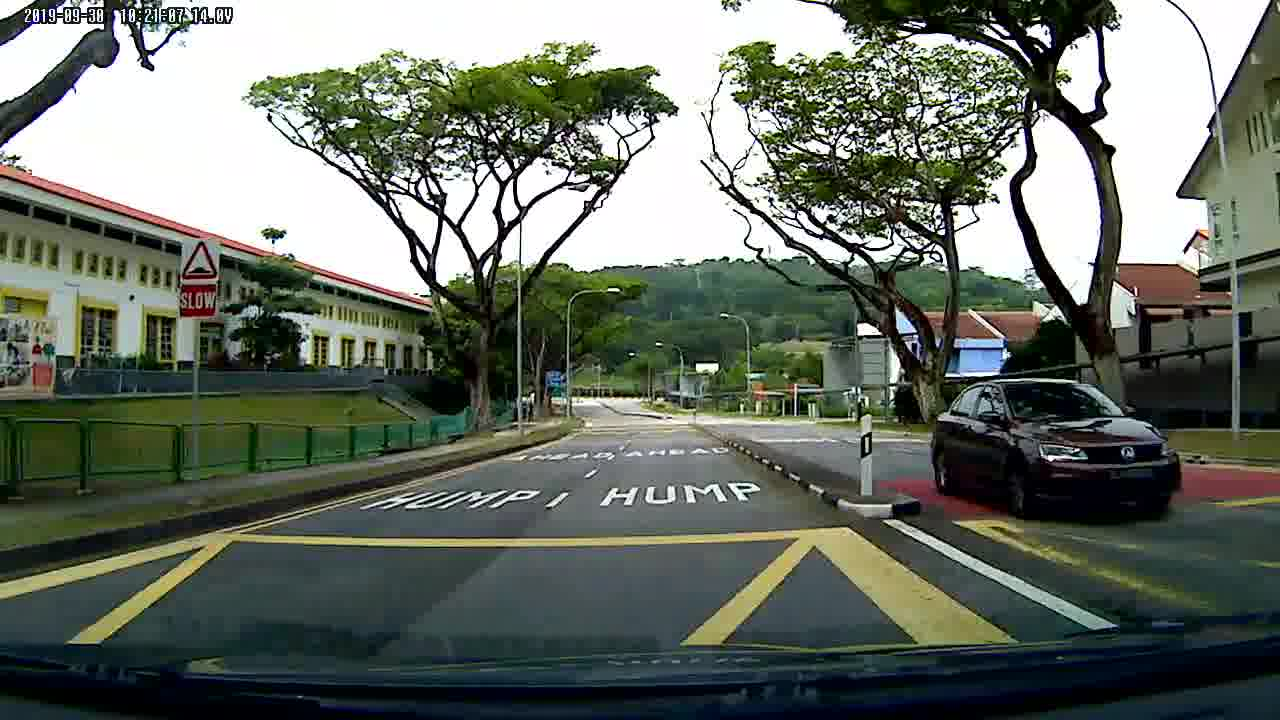car: (930, 381, 1186, 518)
